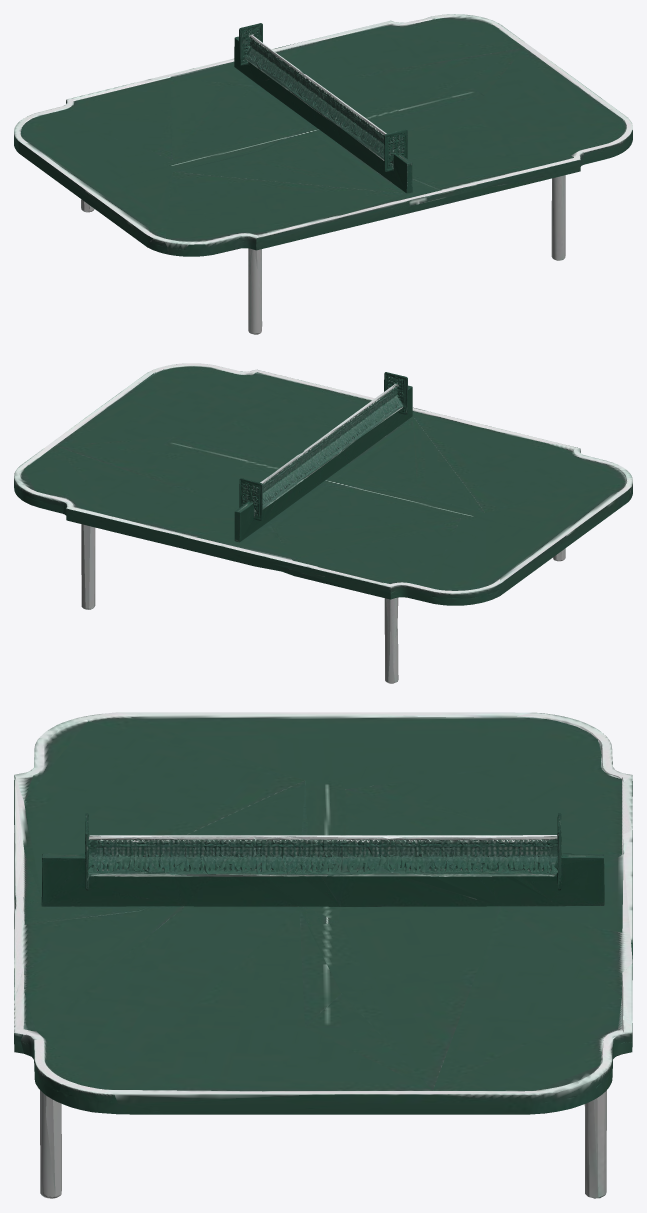
File: pingpong_table.glb
The picture shows the model from 3 angles, top to bottom: view 1: azimuth 30°, elevation 25°; view 2: azimuth 150°, elevation 25°; view 3: azimuth 270°, elevation 25°; orthographic projection. The views are drawn at different scales.
Bounding box in the file's own units: 1.9 × 0.5885 × 1.3.
1 material, 1 textured.
